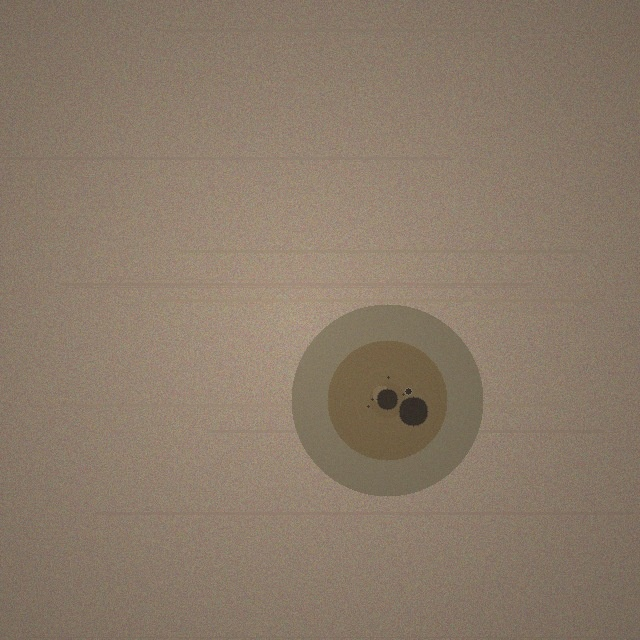shrinkage: (291, 304, 483, 496)
